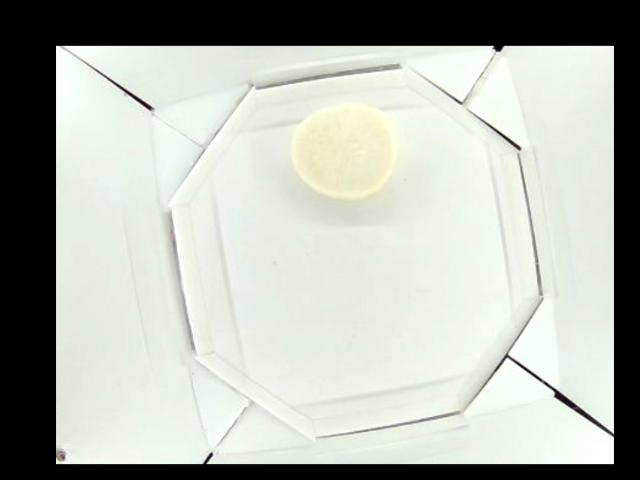Mooli: (291, 105, 396, 199)
